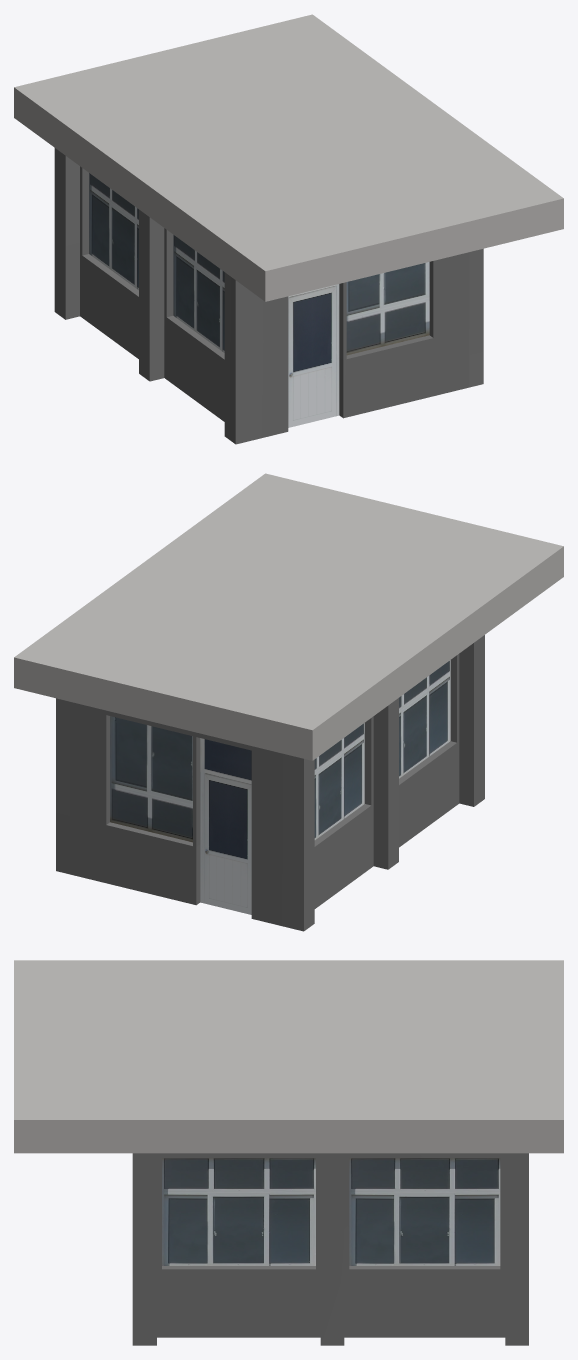
3 renders of one model, top to bottom at view 1: azimuth 30°, elevation 25°; view 2: azimuth 150°, elevation 25°; view 3: azimuth 270°, elevation 25°, orthographic. The views are drawn at different scales.
Parts seen in each view (by area): view 1: objpCube3; view 2: objpCube3; view 3: objpCube3.
Boxes of the visible parts, left/top/right/bottom form: objpCube3: left=14, top=14, right=563, bottom=444; objpCube3: left=14, top=473, right=563, bottom=931; objpCube3: left=14, top=960, right=563, bottom=1345.
Bounding box in the file's own units: 4.8 × 3.36 × 7.
Materials: 4 (4 with a texture image).
